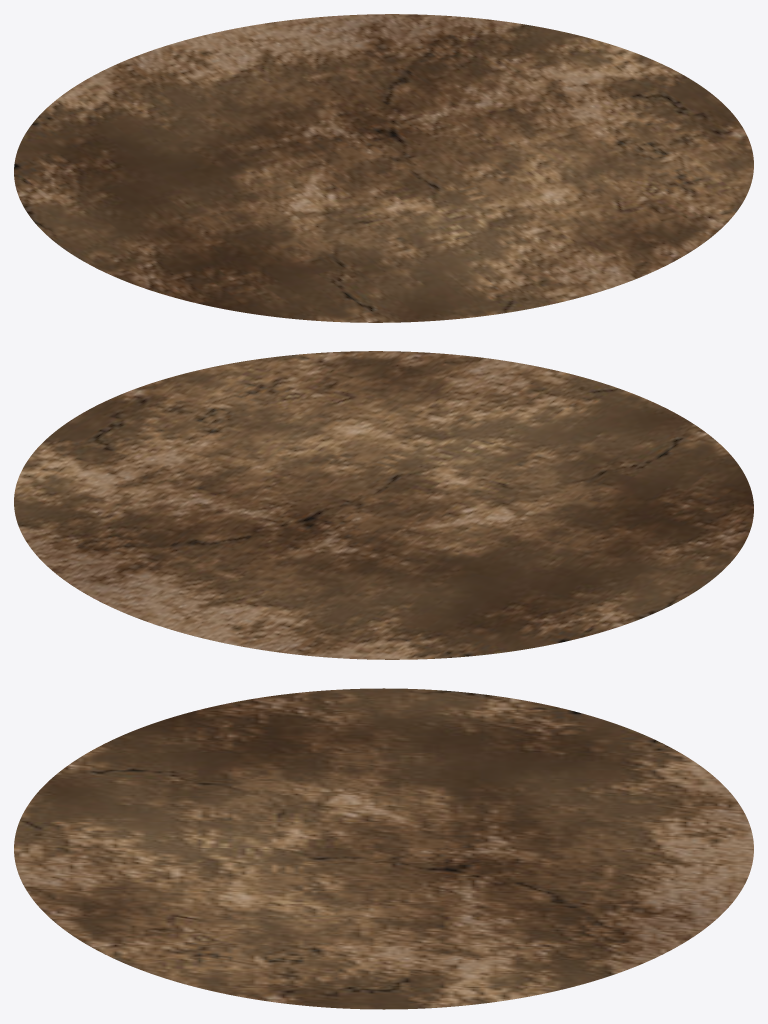
The model's file is BossField.obj.
3 renders of one model, top to bottom at view 1: azimuth 30°, elevation 25°; view 2: azimuth 150°, elevation 25°; view 3: azimuth 270°, elevation 25°, orthographic.
Parts seen in each view (by area): view 1: 円柱; view 2: 円柱; view 3: 円柱.
Boxes of the visible parts, x1,y1,x2,y2 form: 円柱: (14,14,753,322); 円柱: (14,351,753,659); 円柱: (14,688,753,1009).
Bounding box in the file's own units: 114 × 0.00486 × 111.
Materials: 1 (1 with a texture image).
